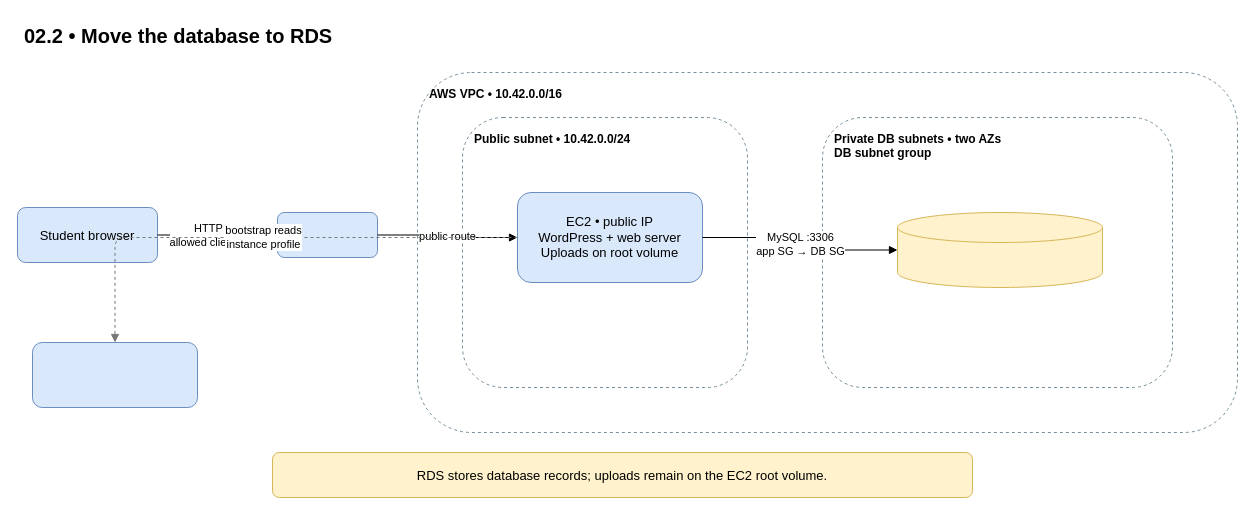
This 1255x515 diagram has some shape labels left out. Each missing label, with the centre of its shape:
"Internet gateway" belongs at pixel 327 235.
"RDS MySQL private • single-AZ" belongs at pixel 999 250.
"Secrets Manager DB credentials" belongs at pixel 115 375.
